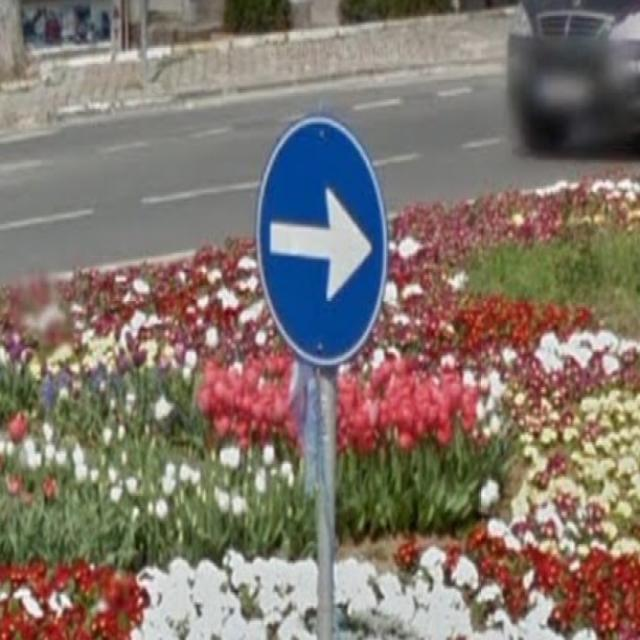Turn Right: (252, 116, 386, 360)
